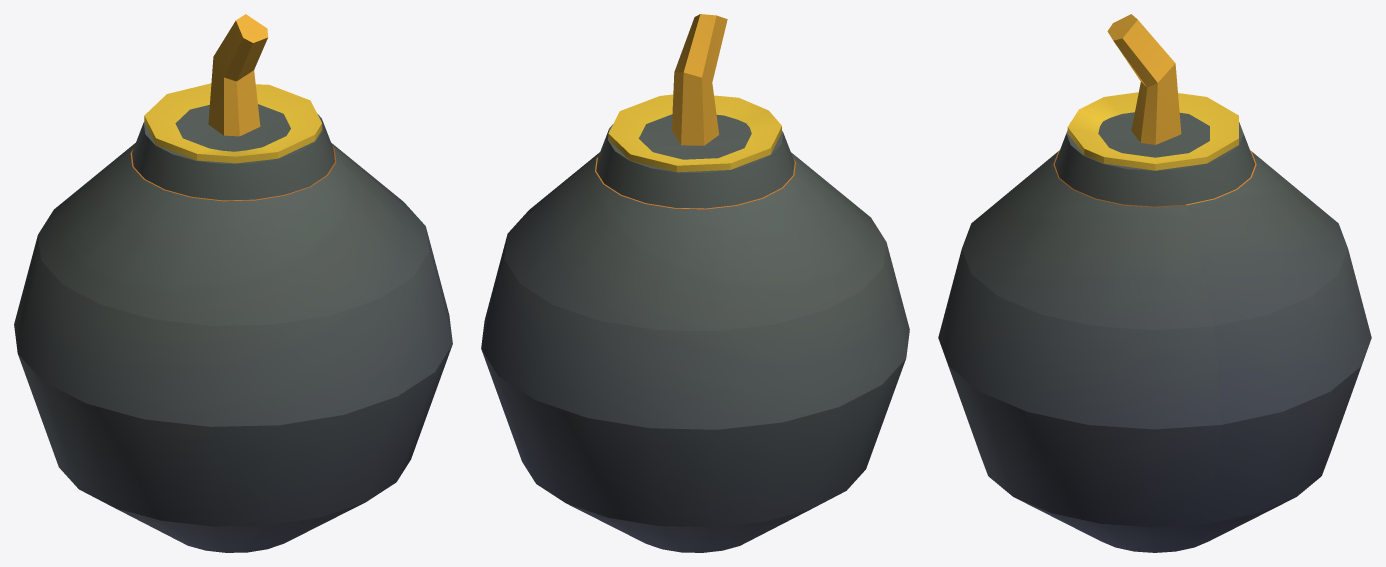
File: Mesh_Bomb.fbx
The picture shows the model from 3 angles, left to right: view 1: azimuth 30°, elevation 25°; view 2: azimuth 150°, elevation 25°; view 3: azimuth 270°, elevation 25°; orthographic projection. The views are drawn at different scales.
Visible parts, largest first — view 1: Mesh_Bomb; view 2: Mesh_Bomb; view 3: Mesh_Bomb.
Part boxes in pixels (x1,y1,x2,y2): Mesh_Bomb: (14, 14, 452, 552); Mesh_Bomb: (481, 14, 909, 552); Mesh_Bomb: (938, 14, 1371, 552).
Size of the model in its own units: 18.87 by 24.8 by 18.87.
1 material, 1 textured.
